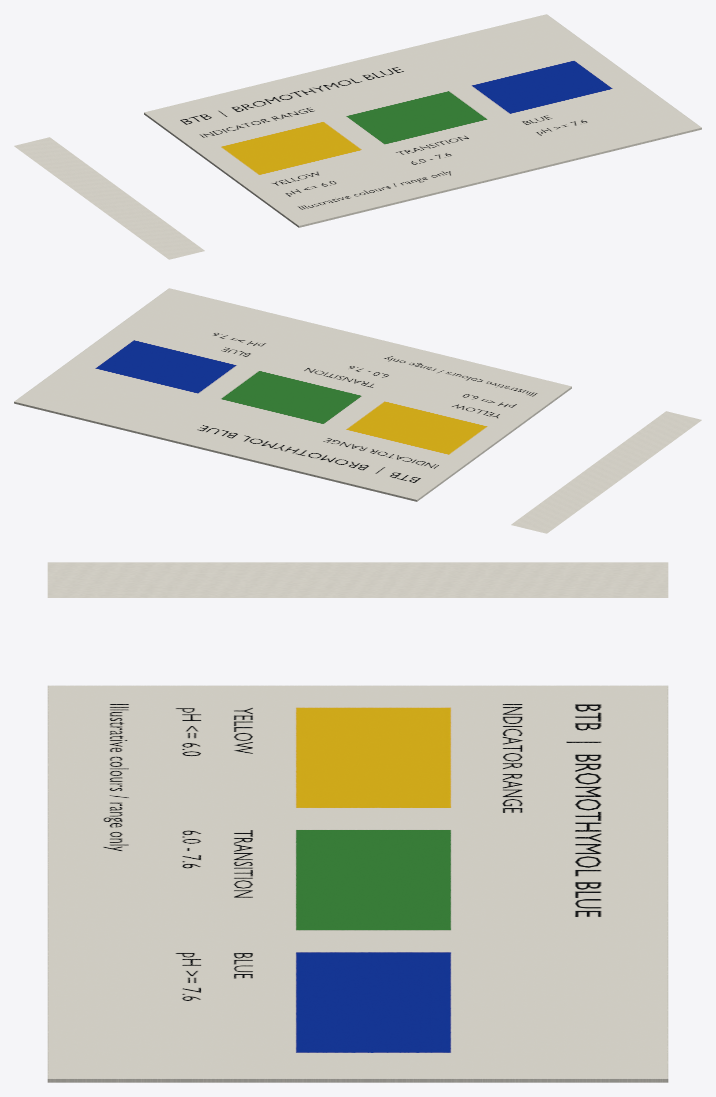
Rendered from VLAB_indicator_paper.fbx.
The picture shows the model from 3 angles, top to bottom: view 1: azimuth 30°, elevation 25°; view 2: azimuth 150°, elevation 25°; view 3: azimuth 270°, elevation 25°; orthographic projection. The views are drawn at different scales.
Parts seen in each view (by area): view 1: VLAB_indicator_paper_ScaleCard_VIS, VLAB_indicator_paper_Strip_VIS; view 2: VLAB_indicator_paper_ScaleCard_VIS, VLAB_indicator_paper_Strip_VIS; view 3: VLAB_indicator_paper_ScaleCard_VIS, VLAB_indicator_paper_Strip_VIS.
Part boxes in pixels (x1,y1,x2,y2): VLAB_indicator_paper_ScaleCard_VIS: (144,14,701,227); VLAB_indicator_paper_Strip_VIS: (14,137,204,259); VLAB_indicator_paper_ScaleCard_VIS: (14,288,571,501); VLAB_indicator_paper_Strip_VIS: (511,411,701,533); VLAB_indicator_paper_ScaleCard_VIS: (47,685,668,1082); VLAB_indicator_paper_Strip_VIS: (47,562,668,597).
Bounding box in the file's own units: 0.119 × 0.00044 × 0.06.
